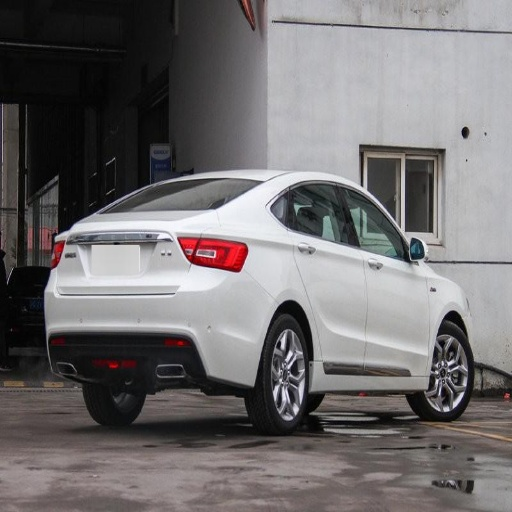back_bumper: (46, 263, 273, 387)
back_right_door: (288, 182, 366, 372)
tailgate: (58, 210, 211, 293)
